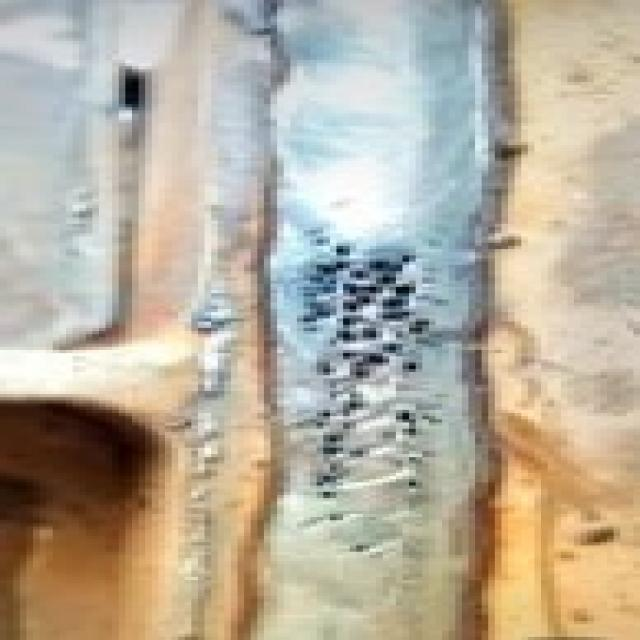Bad Weld: (198, 0, 508, 637)
Defect: (277, 230, 449, 542)
